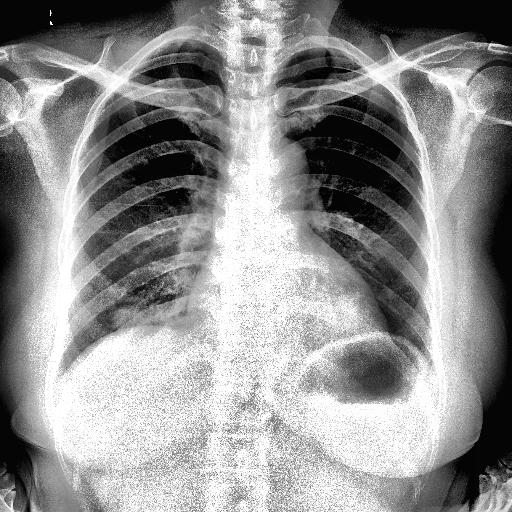11- Pleural thickening: (277, 42, 361, 64), (144, 34, 202, 64), (140, 38, 218, 60)
3- Cardiomegaly: (179, 276, 391, 350), (178, 294, 389, 352)
7- Lung Opacity: (93, 298, 153, 338), (112, 302, 146, 330)
8- Nodule-Mass: (110, 306, 152, 337)
